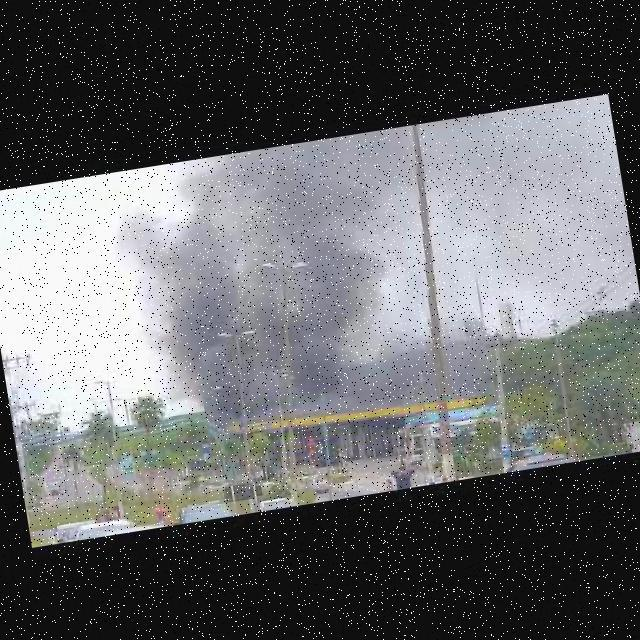Fire: (303, 437, 314, 448)
Smoke: (121, 151, 391, 433)
